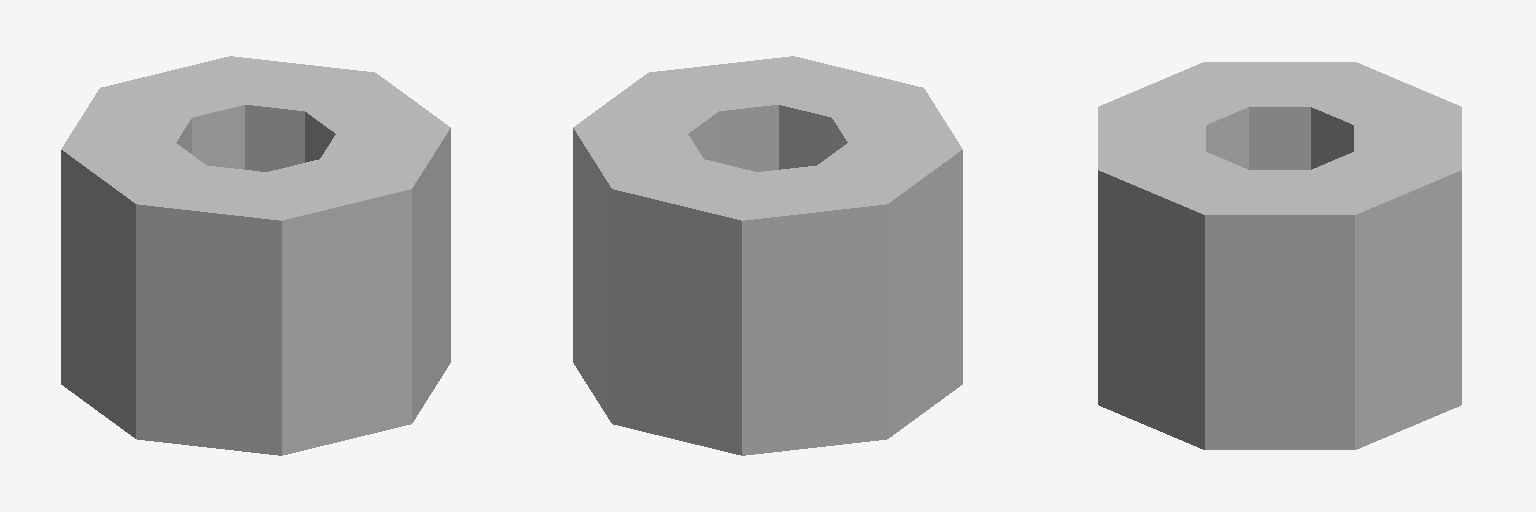
Rendered from octagonal_coral.obj.
3 views of the same model, side by side, from view 1: azimuth 30°, elevation 25°; view 2: azimuth 150°, elevation 25°; view 3: azimuth 270°, elevation 25° (orthographic).
Visible parts, largest first — view 1: Cylinder.002_Cylinder.003, Cylinder.003_Cylinder.004; view 2: Cylinder.002_Cylinder.003, Cylinder.003_Cylinder.004; view 3: Cylinder.002_Cylinder.003, Cylinder.003_Cylinder.004.
Boxes of the visible parts, x1=… form: Cylinder.002_Cylinder.003: x1=61, y1=56, x2=450, y2=455; Cylinder.003_Cylinder.004: x1=176, y1=105, x2=335, y2=171; Cylinder.002_Cylinder.003: x1=573, y1=56, x2=962, y2=455; Cylinder.003_Cylinder.004: x1=688, y1=105, x2=847, y2=171; Cylinder.002_Cylinder.003: x1=1098, y1=62, x2=1461, y2=449; Cylinder.003_Cylinder.004: x1=1206, y1=107, x2=1353, y2=169.
Size of the model in its own units: 1.41 by 1.01 by 1.41.